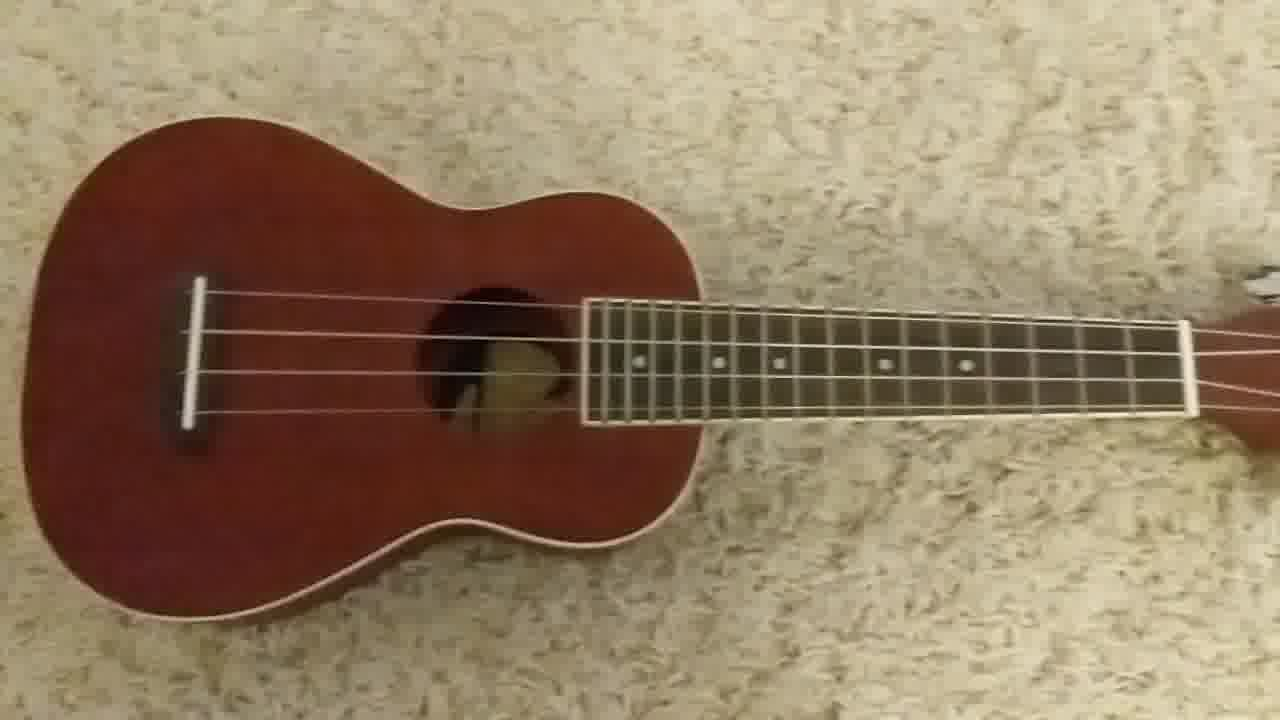Body: (19, 111, 707, 629)
Bridge: (165, 270, 230, 439)
Headstock: (1188, 251, 1280, 472)
